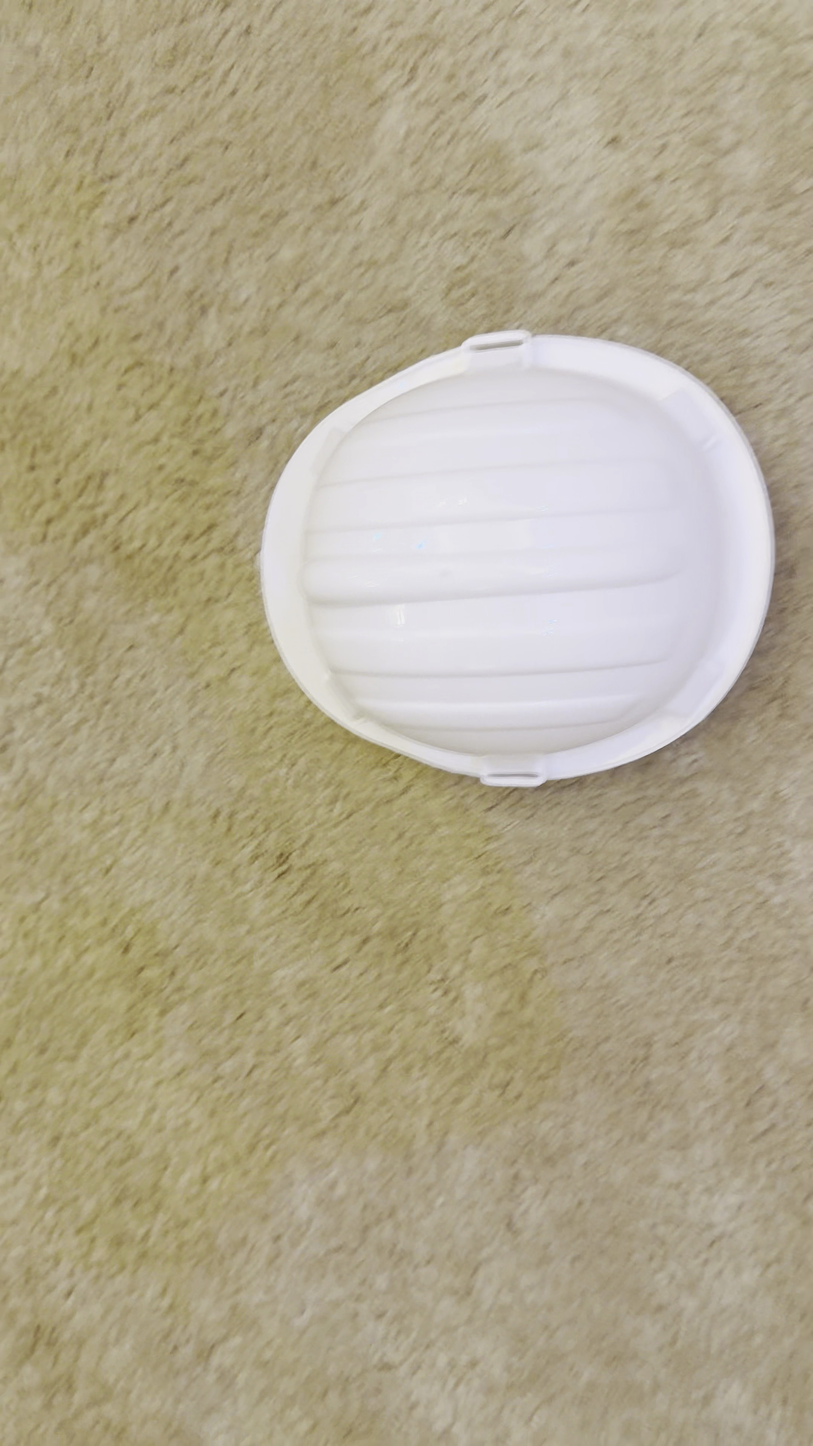safety_helmet: (256, 326, 777, 791)
